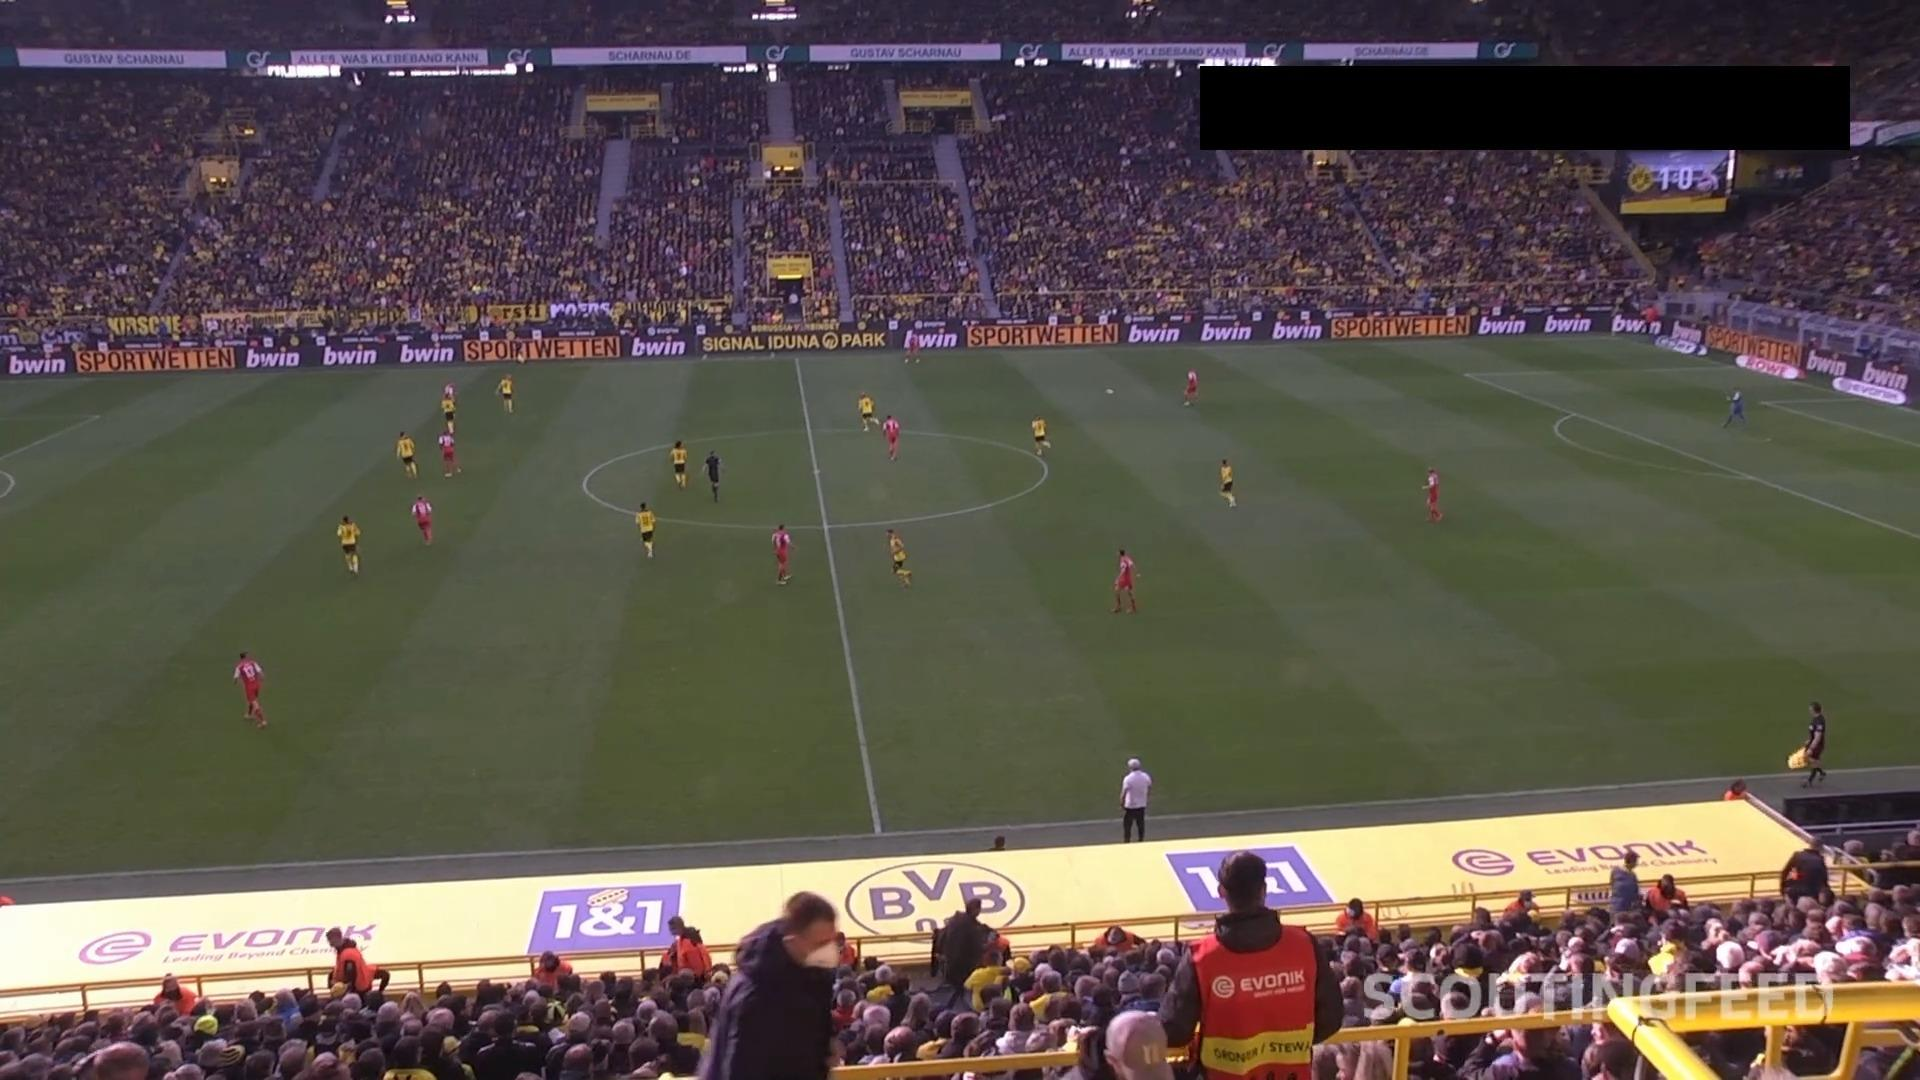ball: (1105, 388, 1114, 395)
fan: (940, 897, 995, 988)
player: (232, 650, 267, 728), (1111, 548, 1137, 613), (884, 527, 911, 587), (336, 514, 361, 575), (770, 523, 791, 583), (634, 501, 655, 559), (1420, 466, 1442, 521), (410, 493, 433, 545), (395, 429, 418, 478), (437, 430, 460, 477), (1721, 387, 1746, 427), (1217, 457, 1236, 507), (668, 439, 687, 489), (881, 414, 900, 460), (1030, 414, 1050, 457), (440, 382, 456, 433), (856, 391, 875, 432), (495, 373, 514, 413), (902, 329, 921, 363), (1182, 367, 1198, 406), (441, 381, 458, 394)
referee: (1118, 756, 1152, 842), (1799, 699, 1826, 787), (702, 448, 721, 501)
